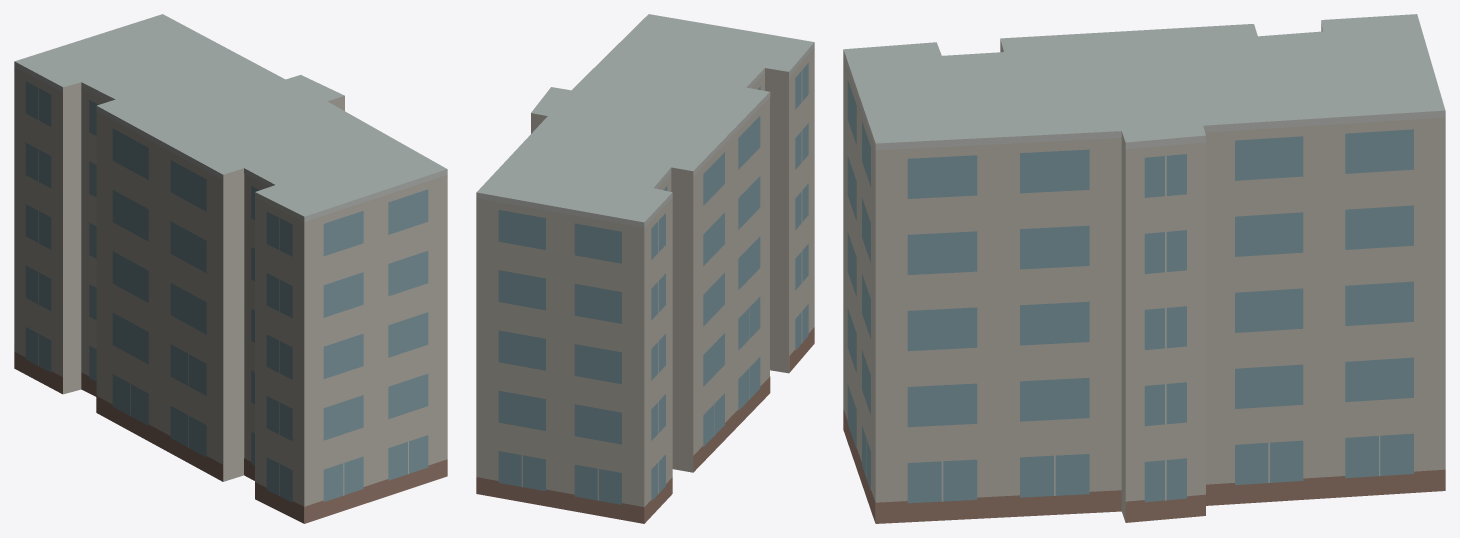
Rendered from survey-upis-32962492.glb.
The picture shows the model from 3 angles, left to right: view 1: azimuth 30°, elevation 25°; view 2: azimuth 150°, elevation 25°; view 3: azimuth 270°, elevation 25°; orthographic projection. The views are drawn at different scales.
Parts seen in each view (by area): view 1: survey-upis-32962492.tmp; view 2: survey-upis-32962492.tmp; view 3: survey-upis-32962492.tmp.
Boxes of the visible parts, x1=… form: survey-upis-32962492.tmp: x1=14, y1=14, x2=447, y2=523; survey-upis-32962492.tmp: x1=476, y1=14, x2=814, y2=523; survey-upis-32962492.tmp: x1=843, y1=14, x2=1445, y2=523.
Bounding box in the file's own units: 9.94 × 13.6 × 19.52.
